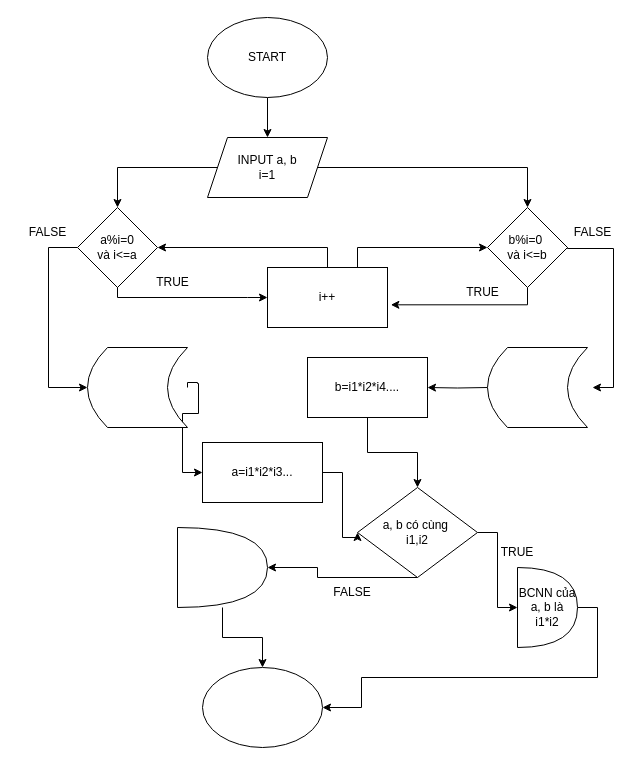
This 639x765 diagram has some shape labels left out. The centre of each missing label's shape, as x and y in pixels:
"a,b không có BCNN" goes at point 222,567.
"END" goes at point 262,707.
"LƯU i1 i2 i3 ...." goes at point 137,387.
"LƯU i1 i2 i4 ...." goes at point 537,387.
